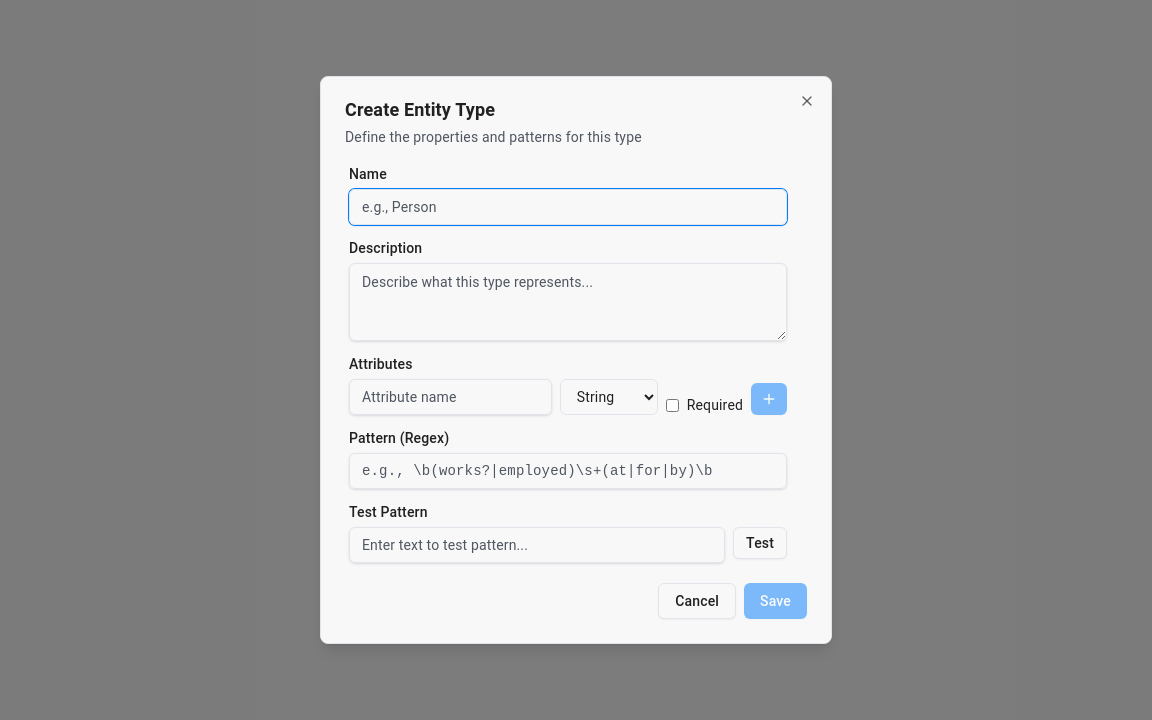
Test: TypeEditorDialog › shows error for invalid regex
Type "[invalid" into the field labelled "Pattern (Regex)" at (568, 471), box [349, 453, 787, 489]
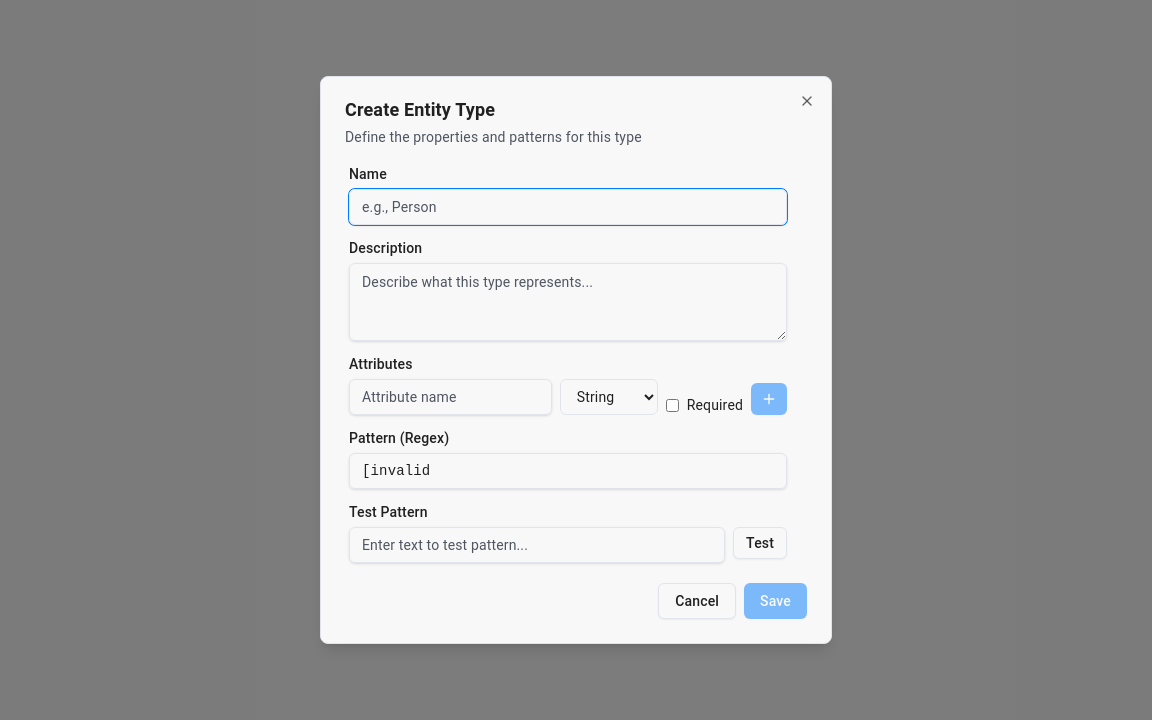
Type "test" into the field labelled "Test Pattern" at (537, 545), box [349, 527, 725, 563]
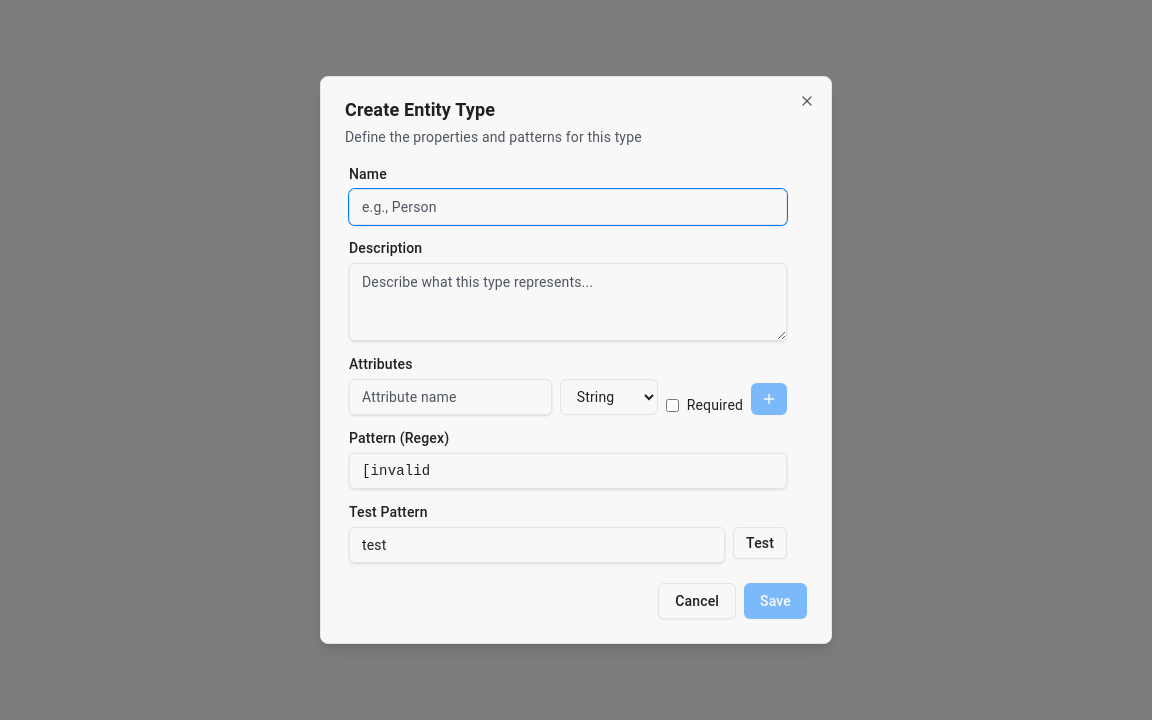
Click the button "Test" at (760, 543), box [733, 527, 787, 559]
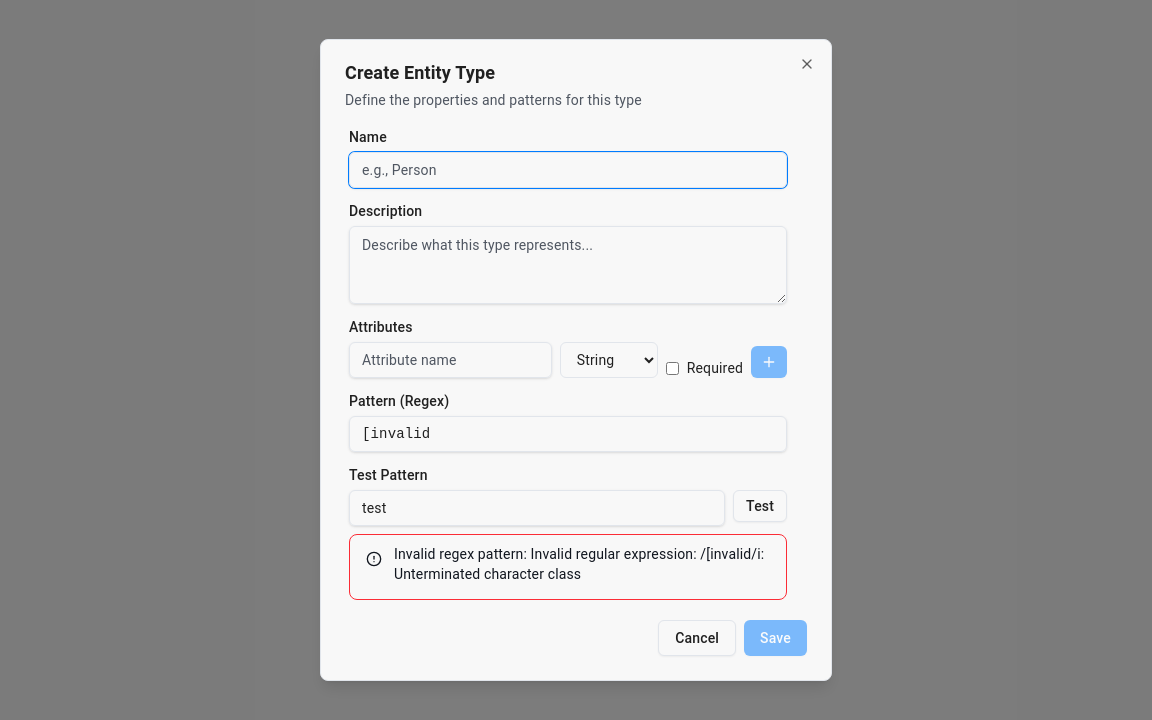
Now the text "Invalid regex pattern" is shown, box [394, 546, 764, 582]
